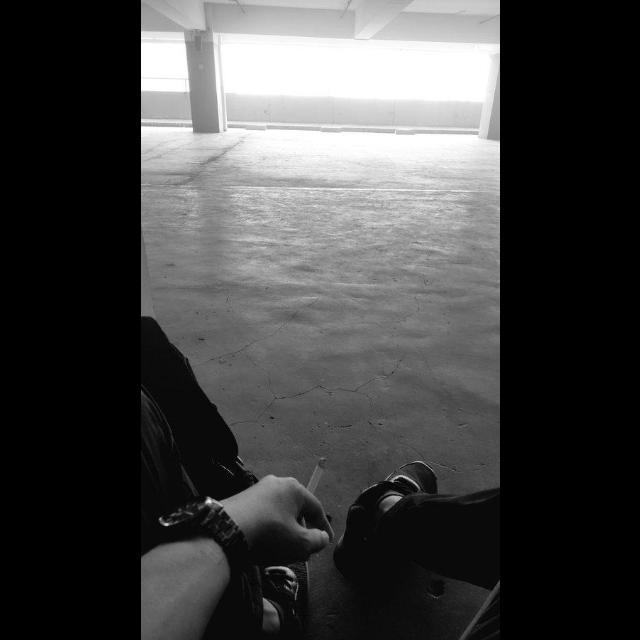rokok: (302, 452, 332, 498)
